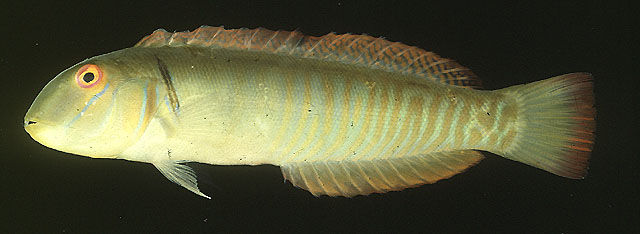fish: (24, 23, 598, 200)
